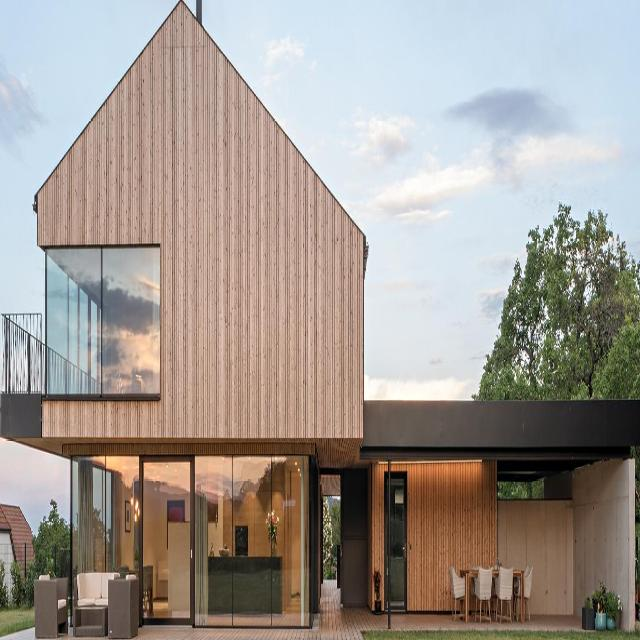Railing: (0, 312, 44, 395)
door: (138, 454, 195, 626), (383, 471, 408, 614)
plant: (478, 200, 640, 394), (10, 502, 70, 604), (0, 555, 9, 611)
wall: (0, 0, 640, 631)
windows: (71, 454, 311, 629), (44, 244, 161, 399)
